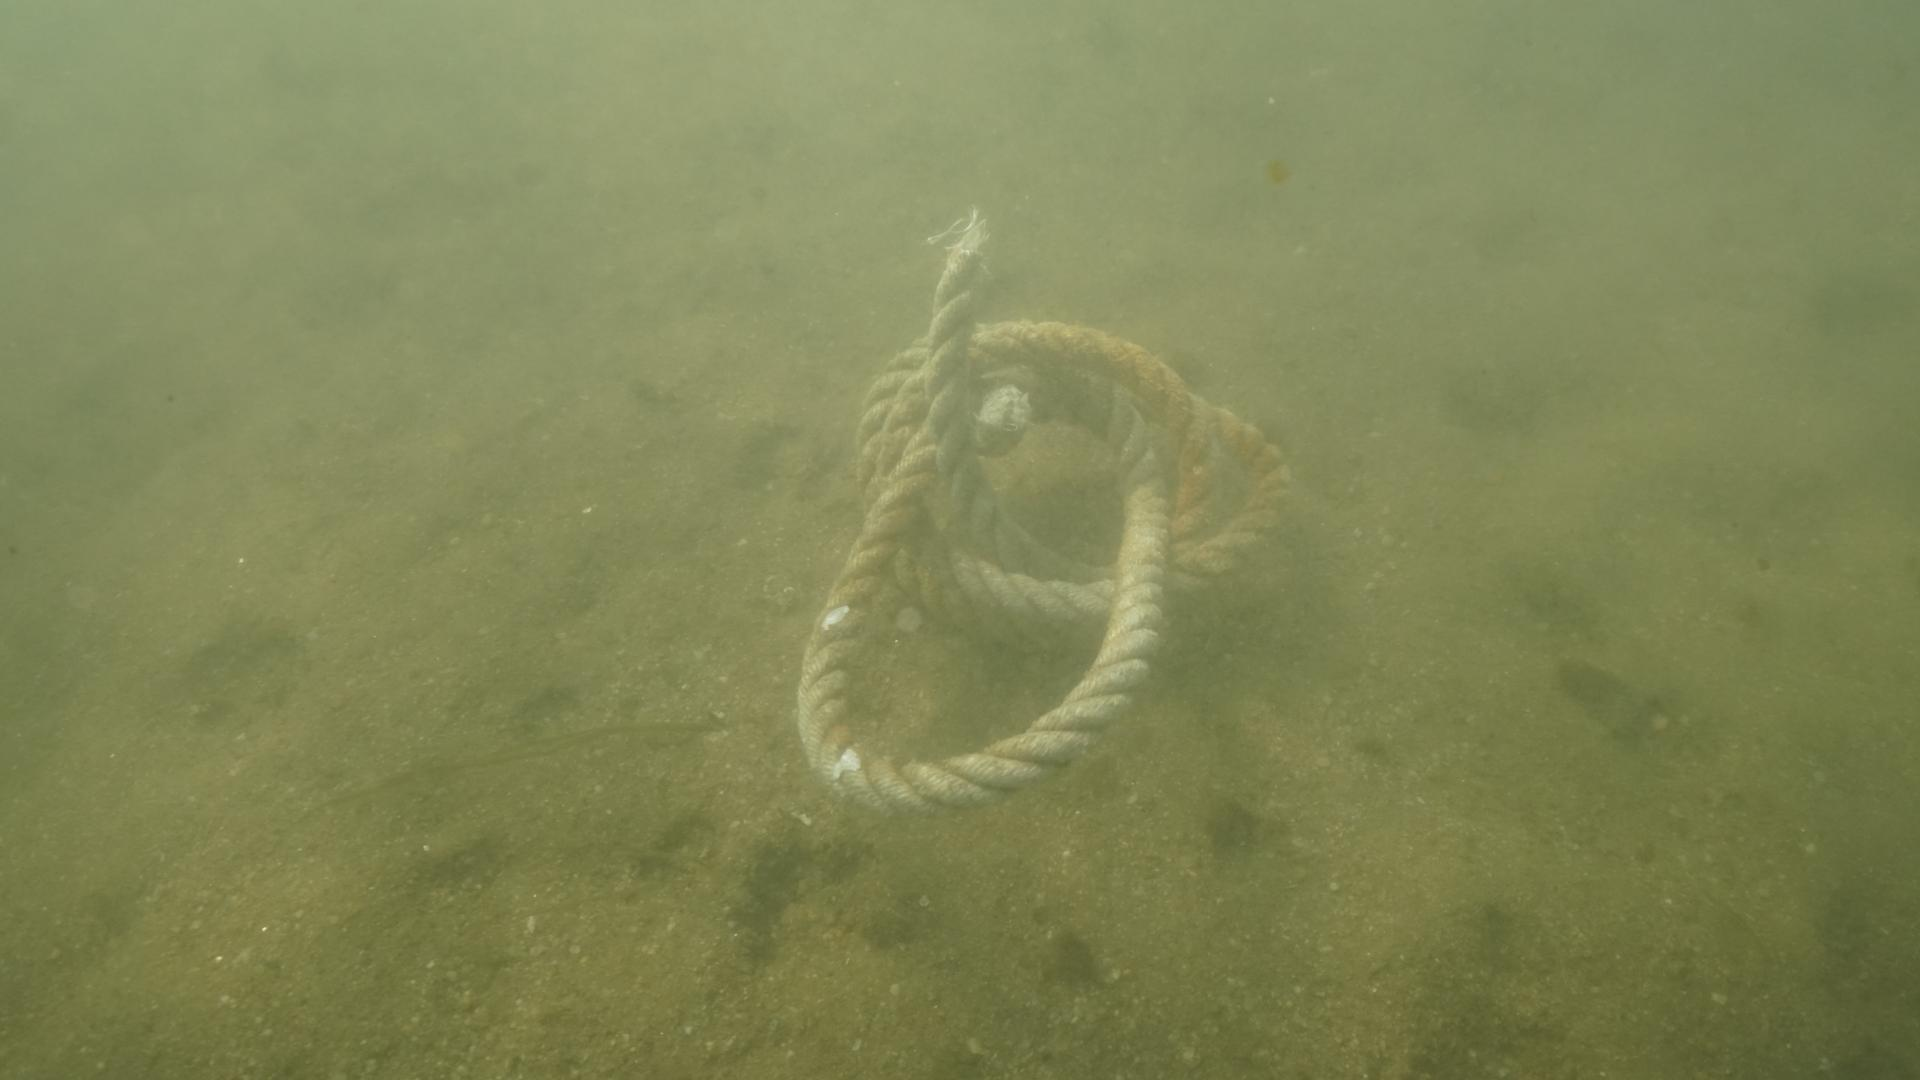bundle of ropes: (786, 255, 1305, 823)
